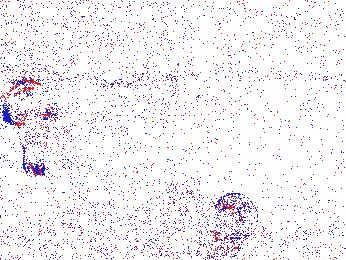flame jellyfish: (3, 81, 59, 176), (53, 200, 111, 255), (210, 192, 259, 242)
